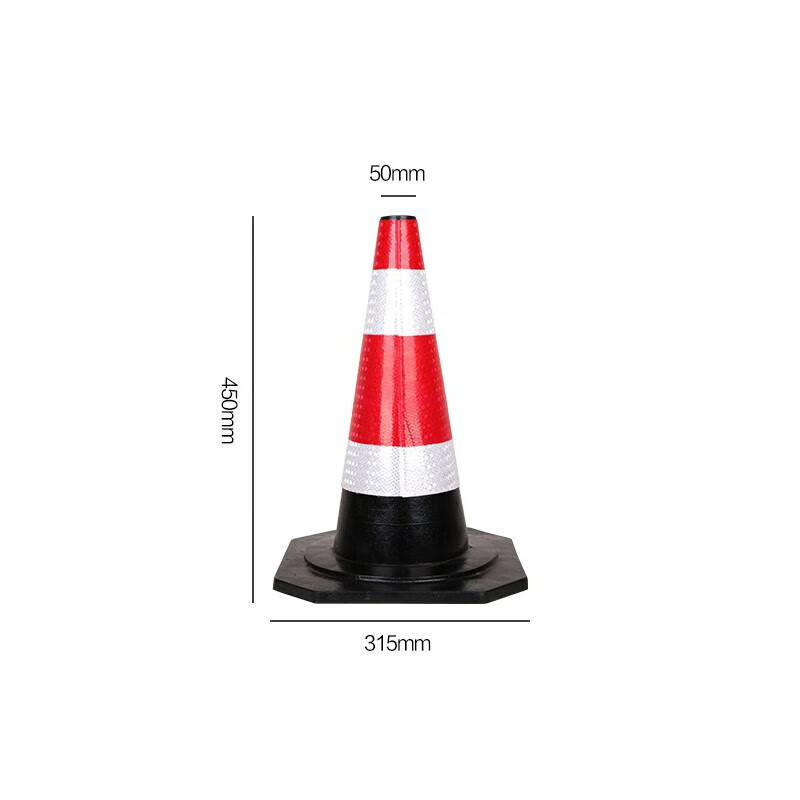traffic_cone: (272, 209, 535, 609)
